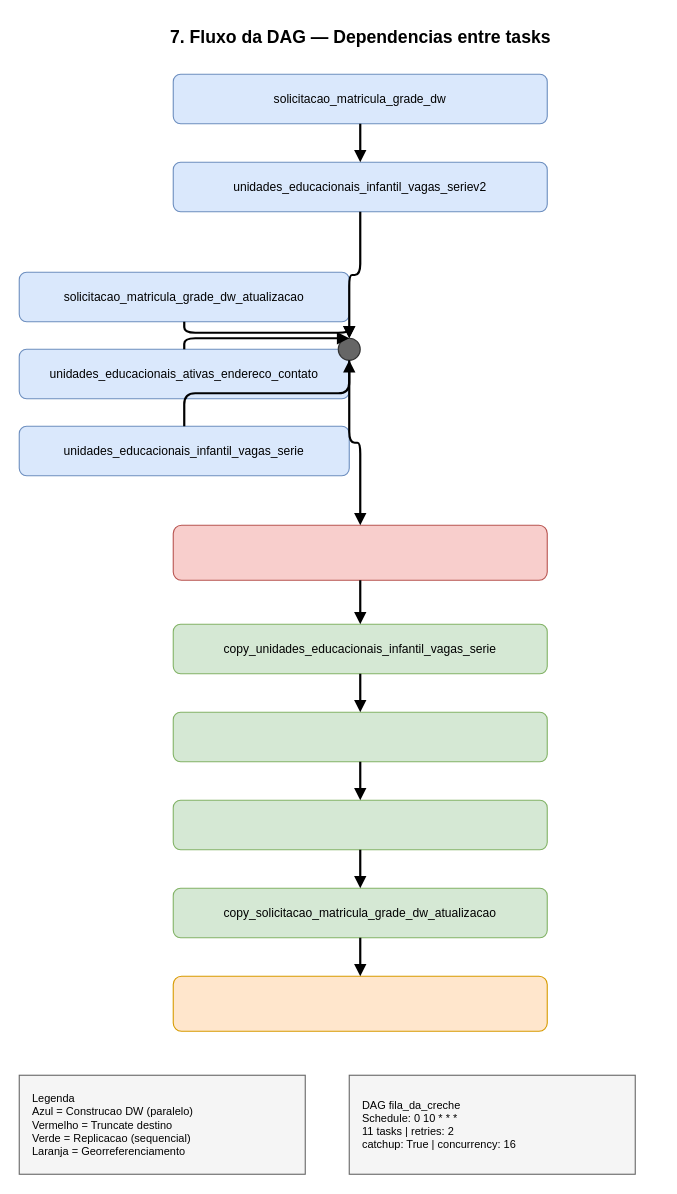
Some shapes in this 677 by 1194 pixel diagram are drawn without their labels. Each missing label, with the centre of its shape:
"add_geom_to_schools" belongs at point 359,1003.
"copy_solicitacao_matricula_grade_dw" belongs at point 359,824.
"copy_unidades_educacionais_ativas_endereco_contato" belongs at point 359,736.
"truncate_fila_da_creche_tables" belongs at point 359,552.
